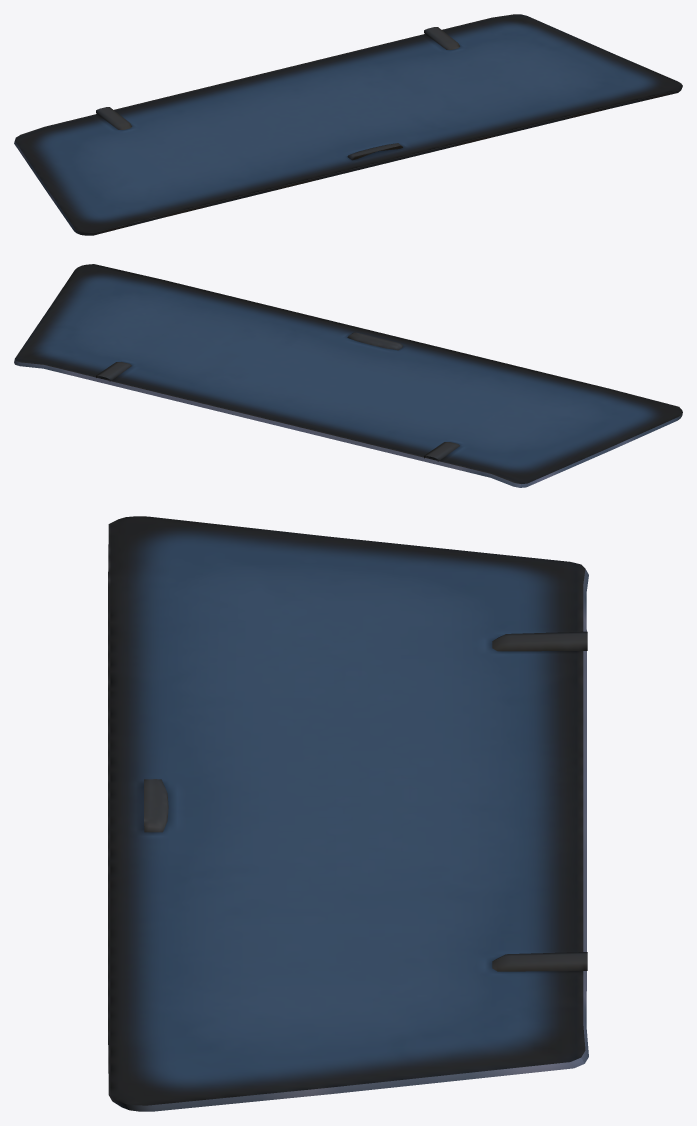
The model's file is FordExplorerRearWindshield_WorldItem.fbx.
3 renders of one model, top to bottom at view 1: azimuth 30°, elevation 25°; view 2: azimuth 150°, elevation 25°; view 3: azimuth 270°, elevation 25°, orthographic. The views are drawn at different scales.
Parts seen in each view (by area): view 1: RearWindshield_obj; view 2: RearWindshield_obj; view 3: RearWindshield_obj.
Boxes of the visible parts, box(x1,y1,x2,y2) form: RearWindshield_obj: box(14, 14, 682, 235); RearWindshield_obj: box(14, 264, 682, 487); RearWindshield_obj: box(108, 516, 588, 1111).
Size of the model in its own units: 1.99 by 0.0336 by 0.686.
